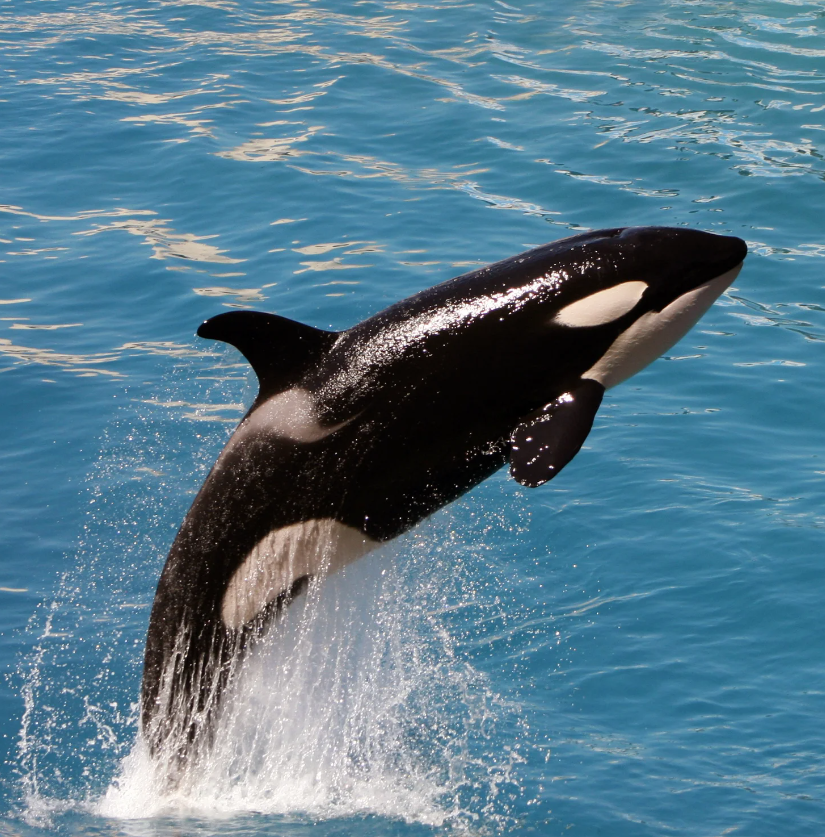Orca whale: (136, 219, 752, 779)
